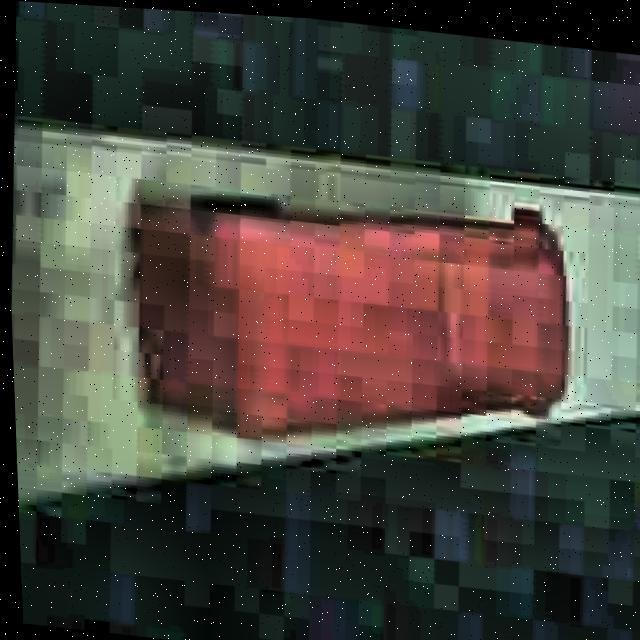bus: (117, 163, 579, 472)
